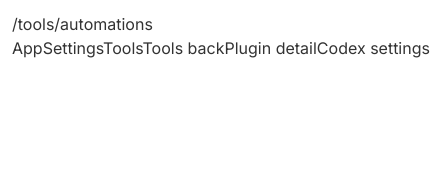
Test: useAppSettingsRouteMemory › does not remember the legacy automation location /tools/automations as Extensions
The width and height of the screenshot is (447, 172).
Click the link "Tools".
click(123, 48)  # box [103,38,142,58]
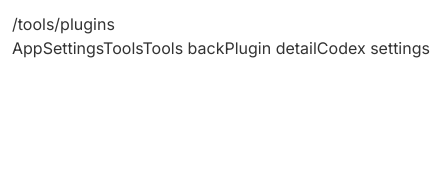
Expected: the text with test id "location" reads "/tools/plugins", [12,14,115,34]
